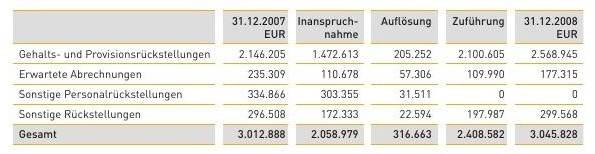table: (0, 0, 595, 154)
